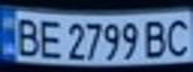2: (63, 19, 87, 61)
7: (81, 19, 106, 61)
9: (118, 19, 145, 61), (103, 19, 124, 61)
B: (139, 17, 172, 60), (9, 15, 42, 57)
C: (163, 15, 193, 57)
E: (33, 17, 63, 60)
